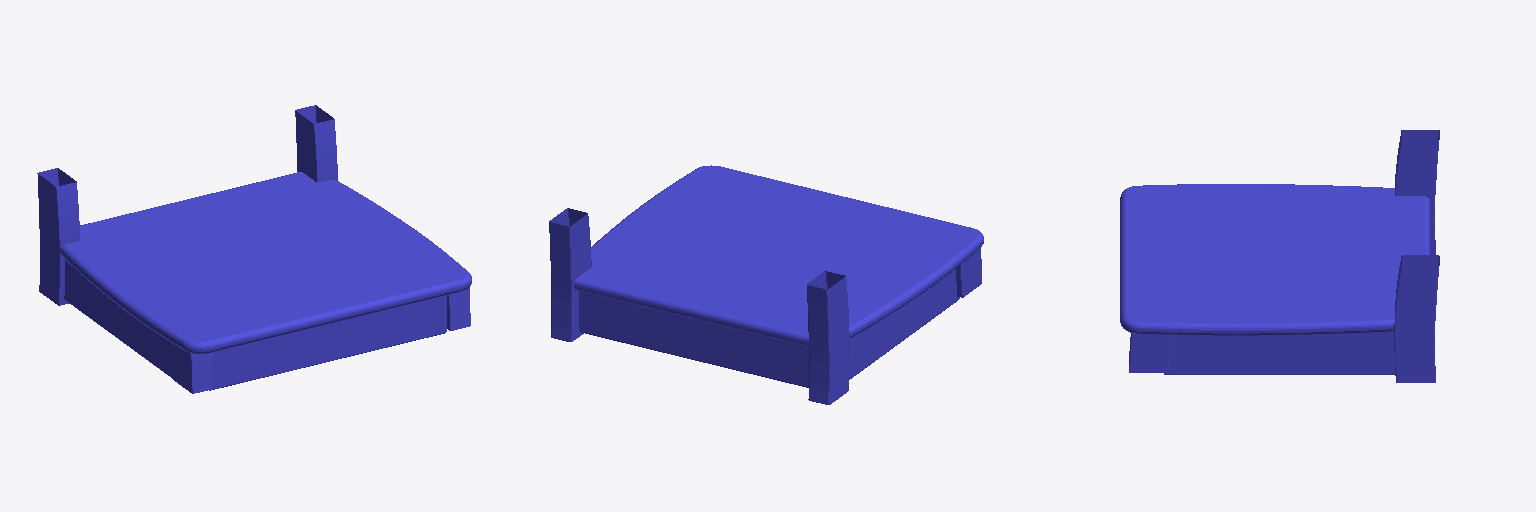
Rendered from con2.obj.
3 renders of one model, left to right at view 1: azimuth 30°, elevation 25°; view 2: azimuth 150°, elevation 25°; view 3: azimuth 270°, elevation 25°, orthographic.
Visible parts, largest first — view 1: con2; view 2: con2; view 3: con2.
Boxes of the visible parts, box(x1,y1,x2,y2) form: con2: box(37, 105, 471, 393); con2: box(549, 165, 983, 404); con2: box(1120, 130, 1439, 382).
Size of the model in its own units: 0.6492 by 0.2464 by 0.6085.